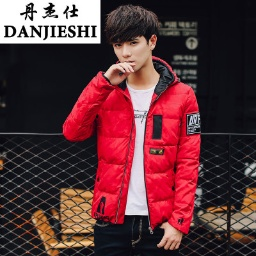face: (105, 7, 161, 74)
